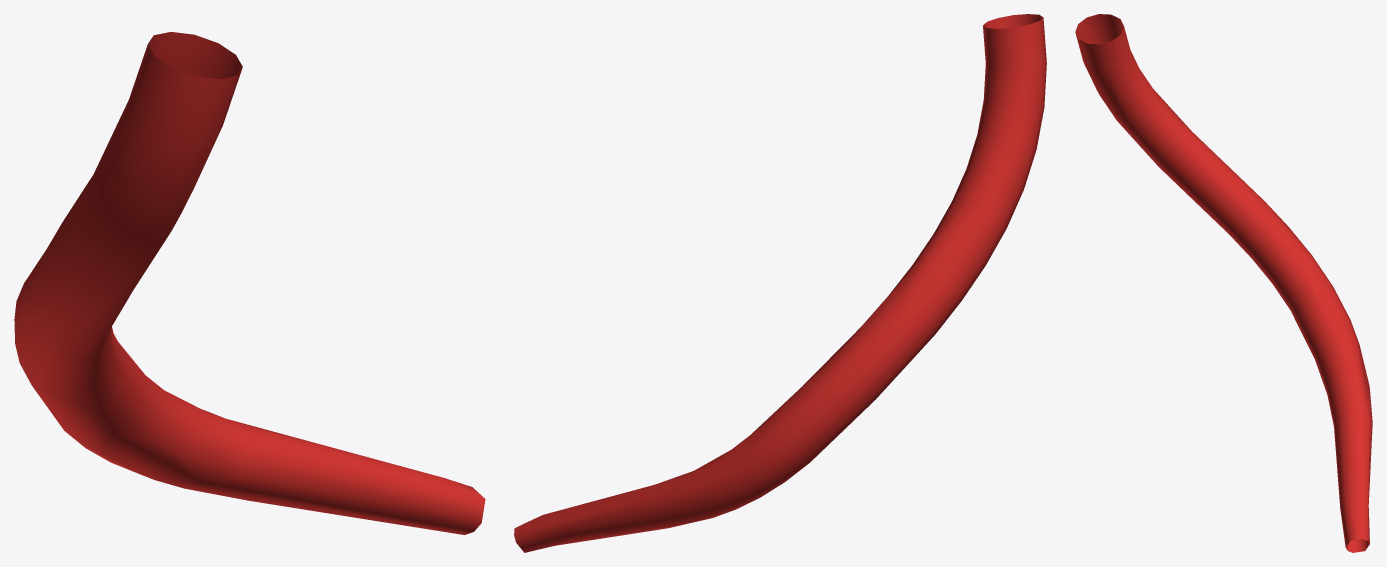
Rendered from circulatorio-calcaneal-branches-of-fibular-artery-r.glb.
3 renders of one model, left to right at view 1: azimuth 30°, elevation 25°; view 2: azimuth 150°, elevation 25°; view 3: azimuth 270°, elevation 25°, orthographic. The views are drawn at different scales.
Visible parts, largest first — view 1: Calcaneal branches of fibular artery.r; view 2: Calcaneal branches of fibular artery.r; view 3: Calcaneal branches of fibular artery.r.
Boxes of the visible parts, x1=… form: Calcaneal branches of fibular artery.r: x1=14, y1=32, x2=485, y2=534; Calcaneal branches of fibular artery.r: x1=514, y1=14, x2=1046, y2=552; Calcaneal branches of fibular artery.r: x1=1075, y1=14, x2=1372, y2=552.
Bounding box in the file's own units: 0.00856 × 0.0108 × 0.00724.
